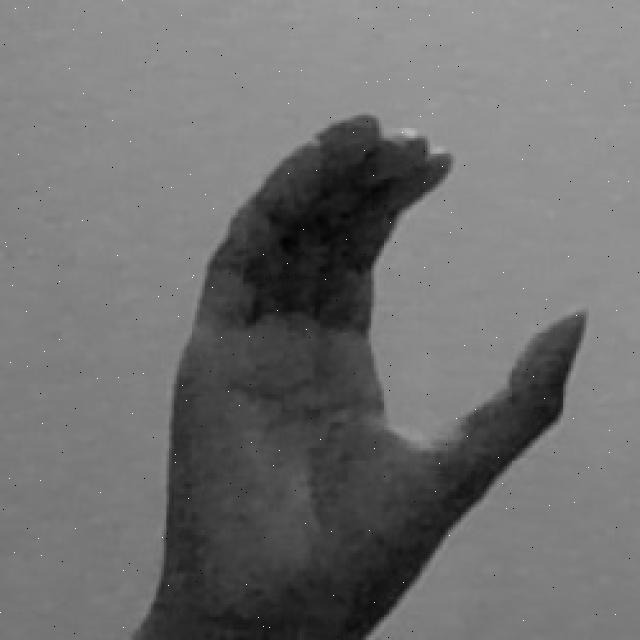C: (132, 112, 589, 640)
